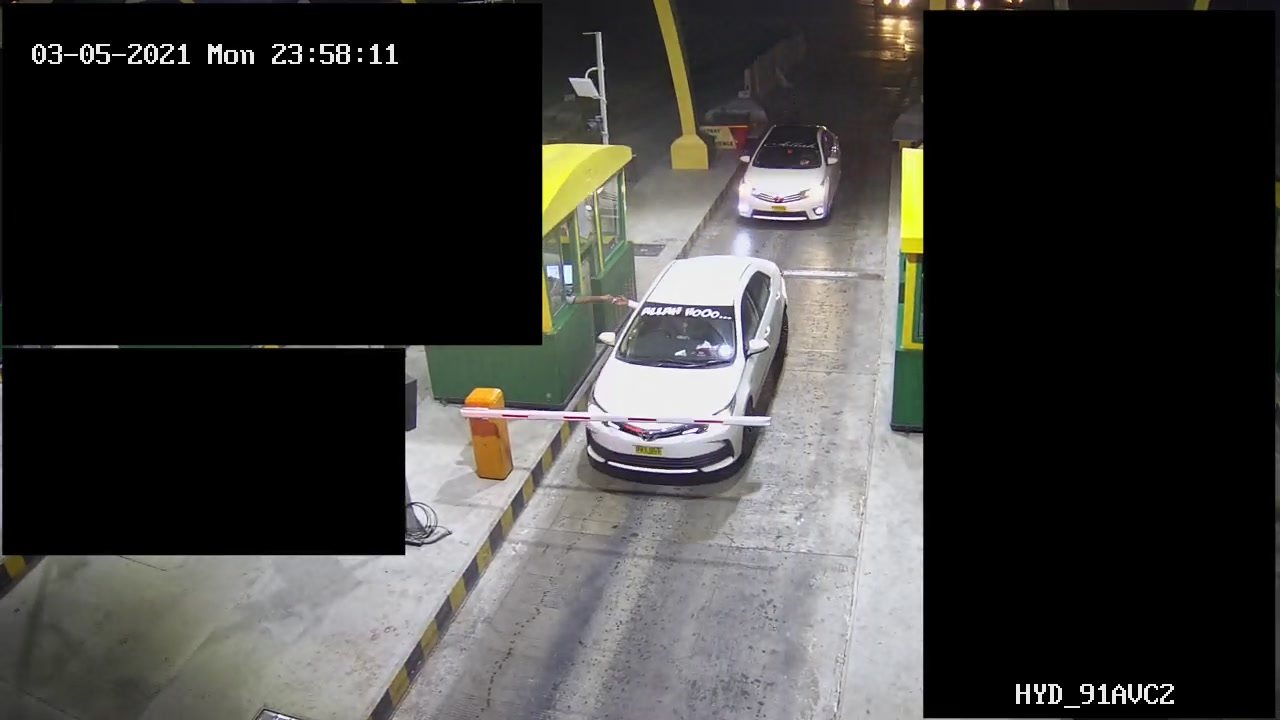F1: (573, 242, 793, 494), (726, 117, 851, 227)
